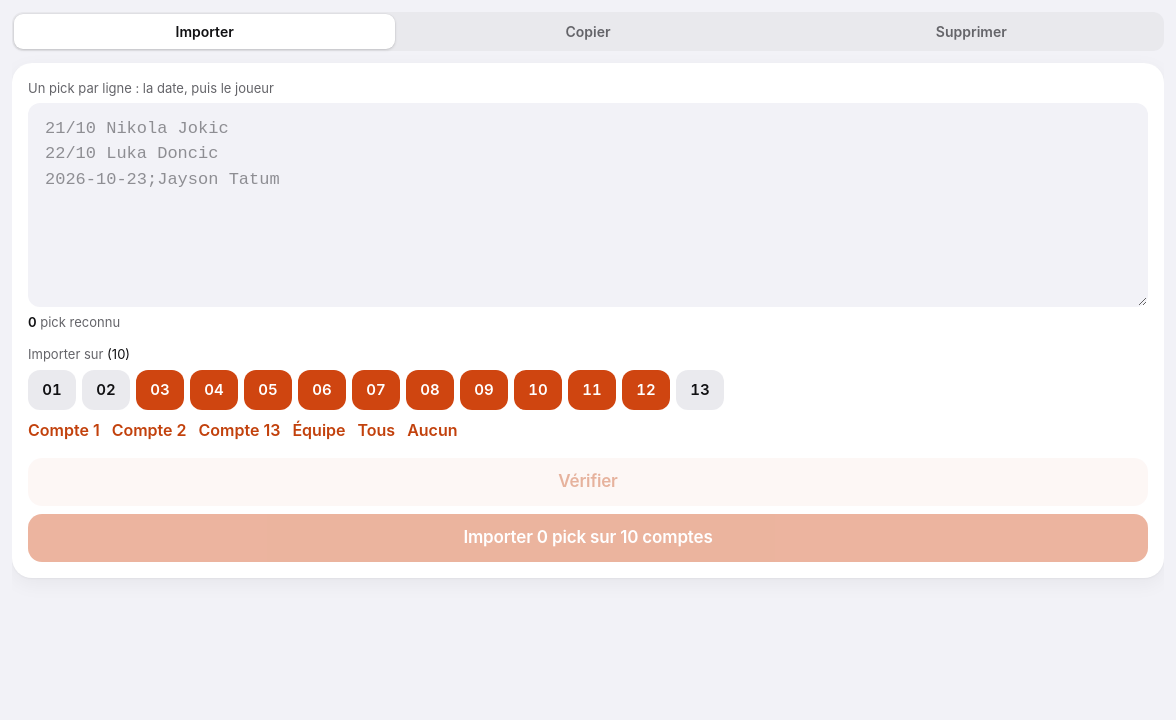
it: Importer des picks › affiche les picks refusés par le cycle de 30 jours
Click the text box named "Picks à importer" at (588, 205), box x1=28 y1=102 x2=1148 y2=307
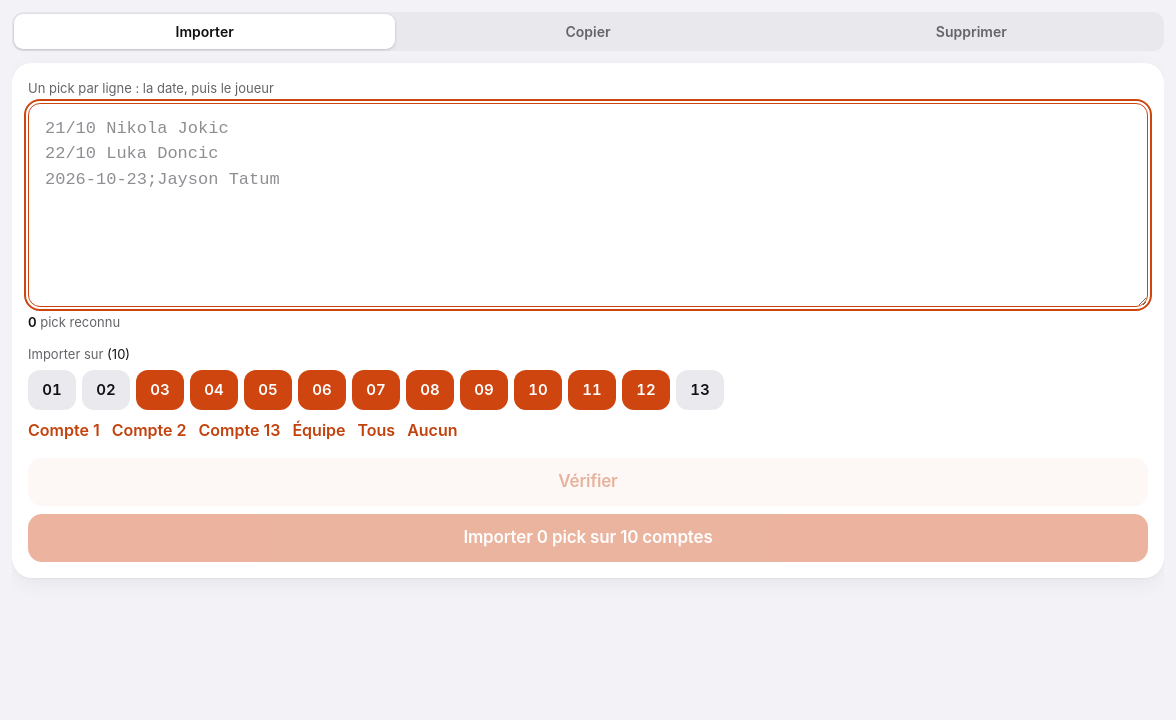
Type keys "21/10 Nikola Jokic"
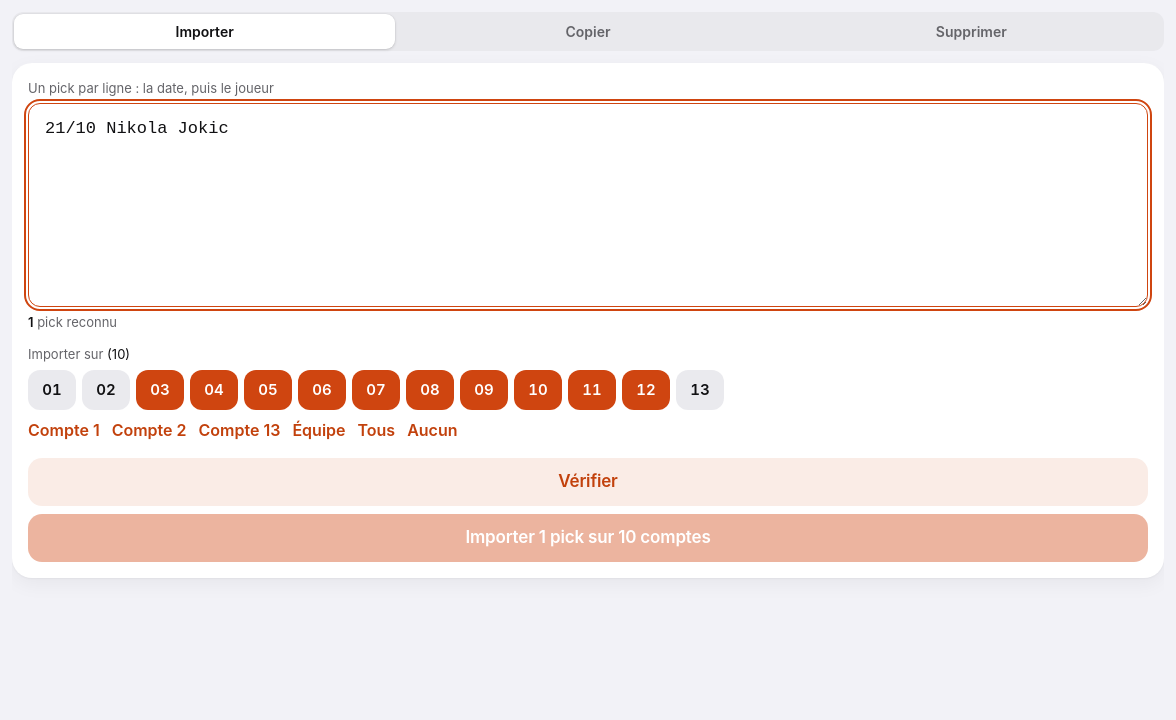
Click the button "Vérifier" at (588, 482), box x1=28 y1=458 x2=1148 y2=506
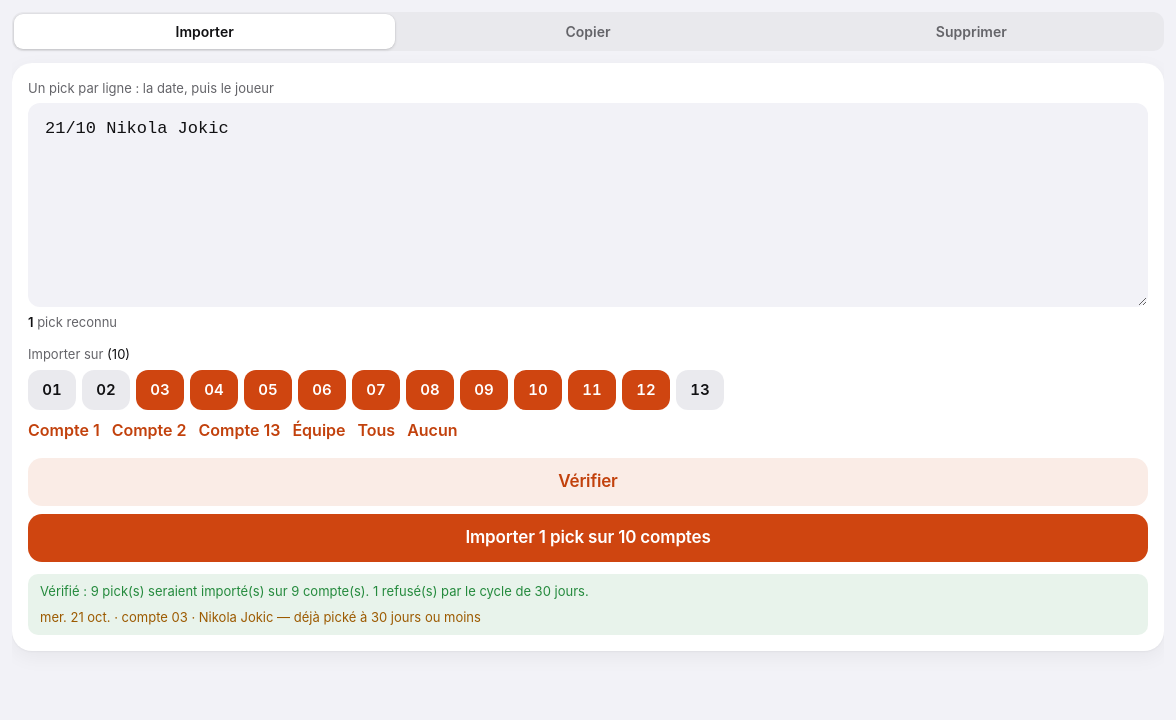
Expected: the list item "compte 03 · Nikola Jokic — déjà pické" is shown, x1=40 y1=608 x2=481 y2=624
